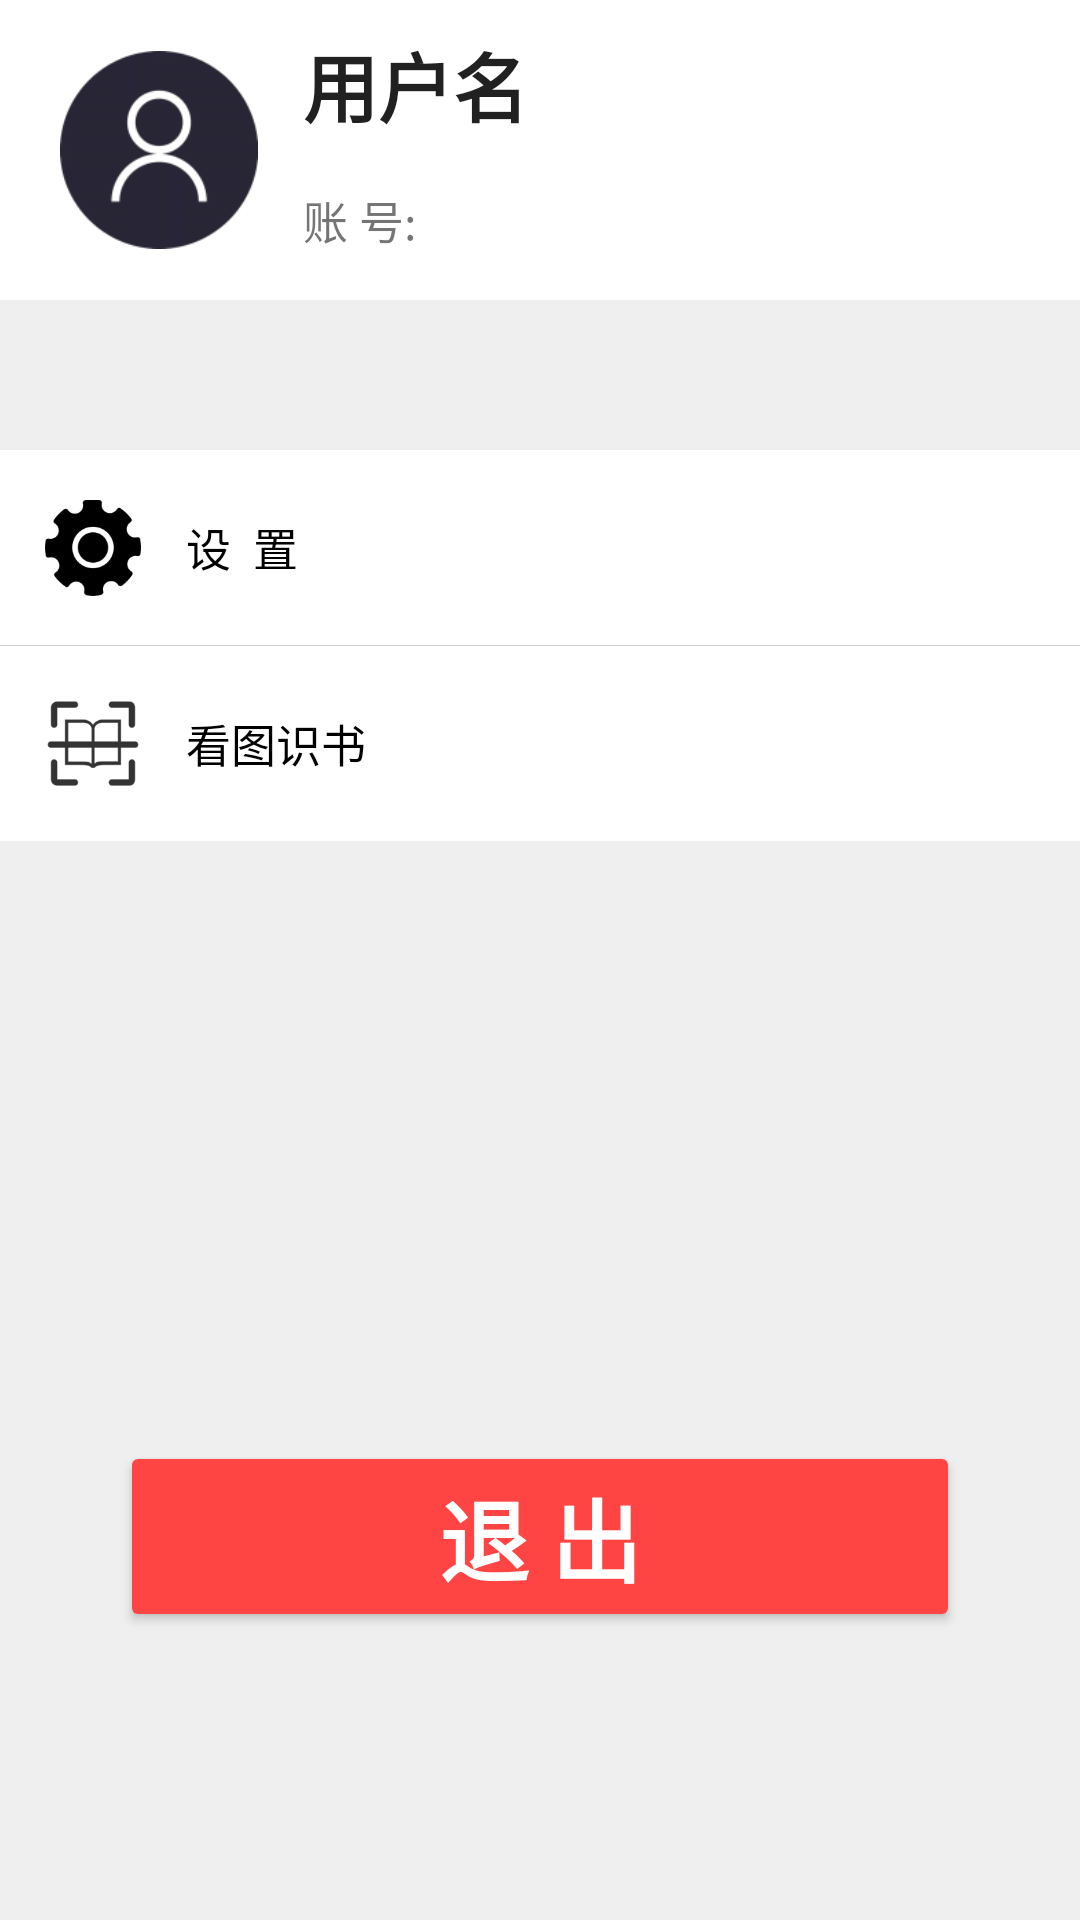

Named icons in this screenshot (1080x1920) and their centers, (x,y):
scanbook: (93,743)
setting: (93,548)
user: (159,150)
